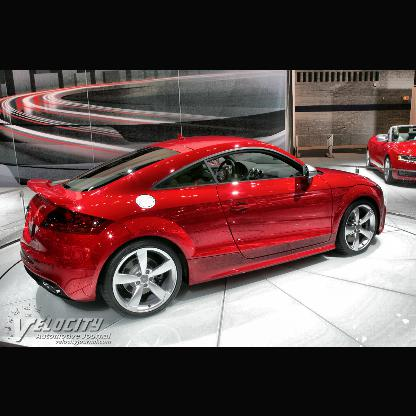Audi TT RS Coupe 2012: (20, 132, 389, 320)
